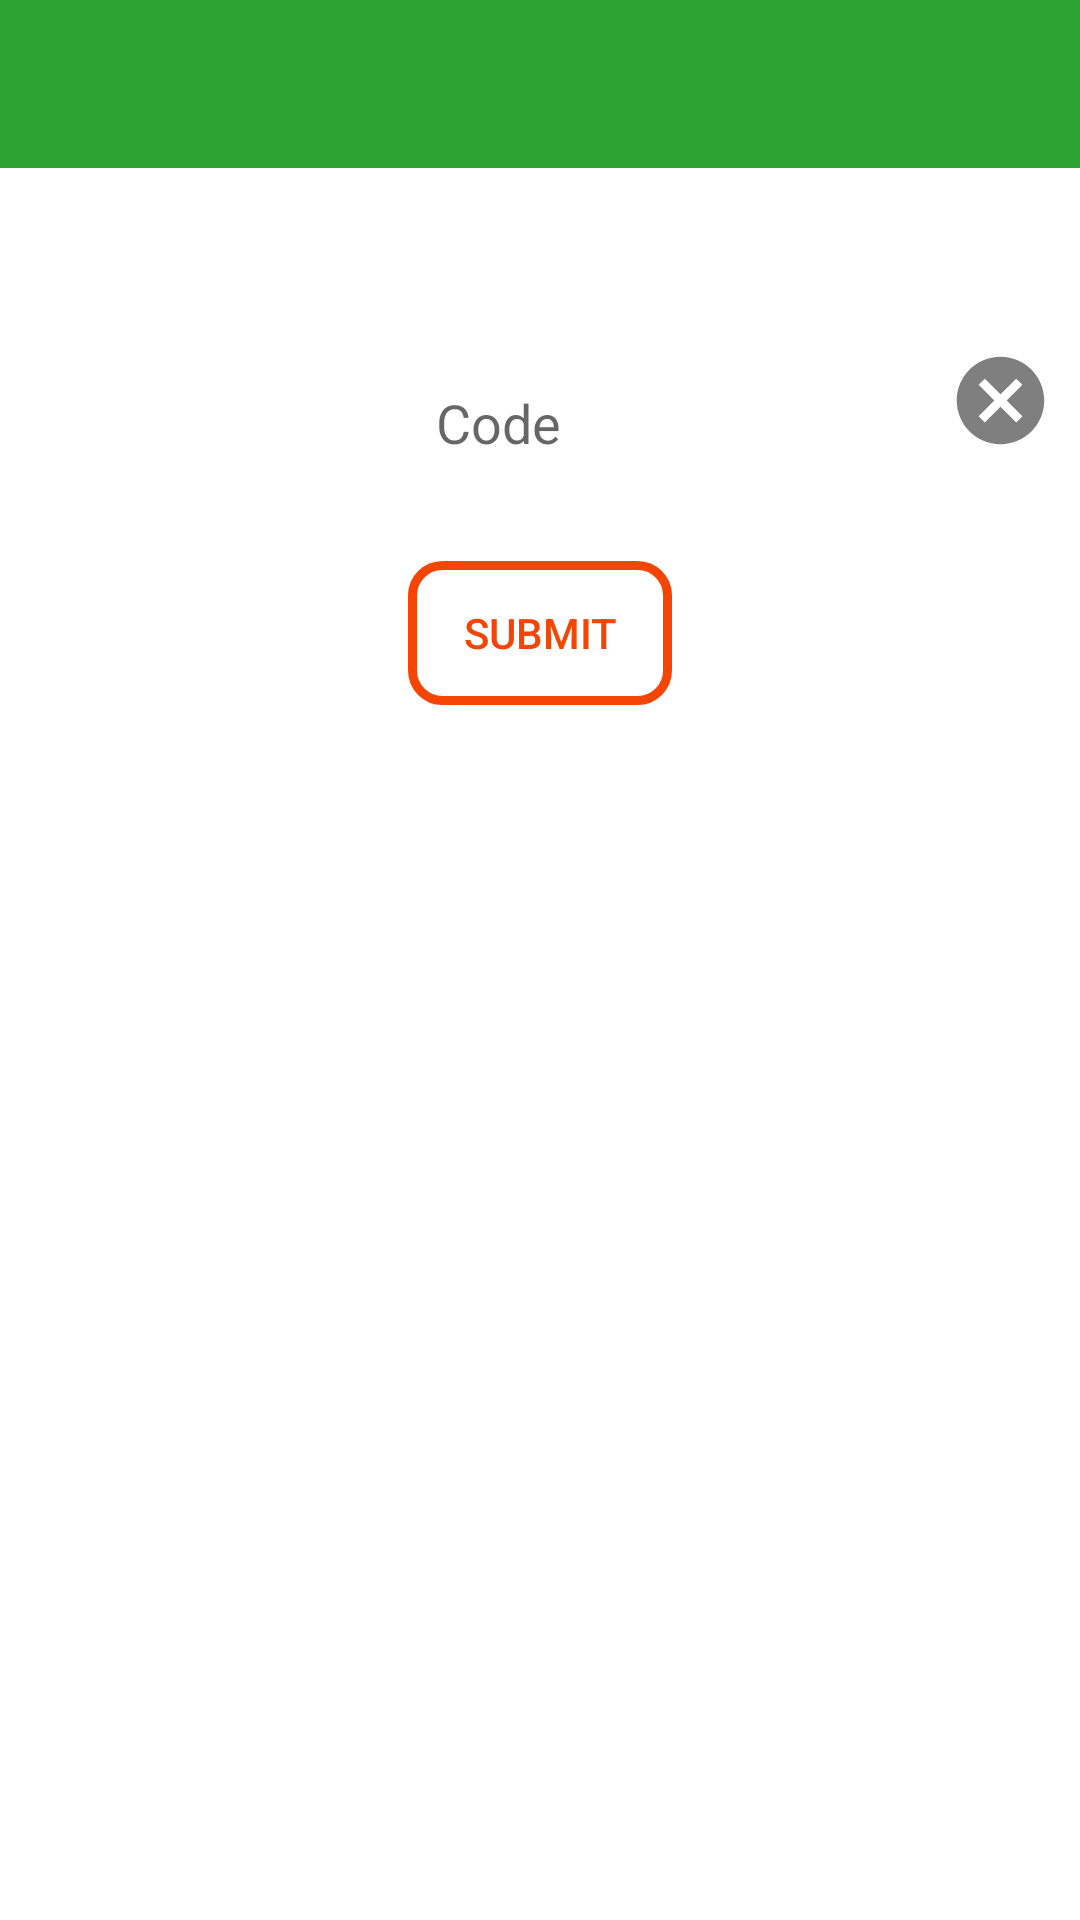

Screen size 1080px×1920px. Icon name, then its center in pixels as point (x, y):
cancel: point (1000, 400)
